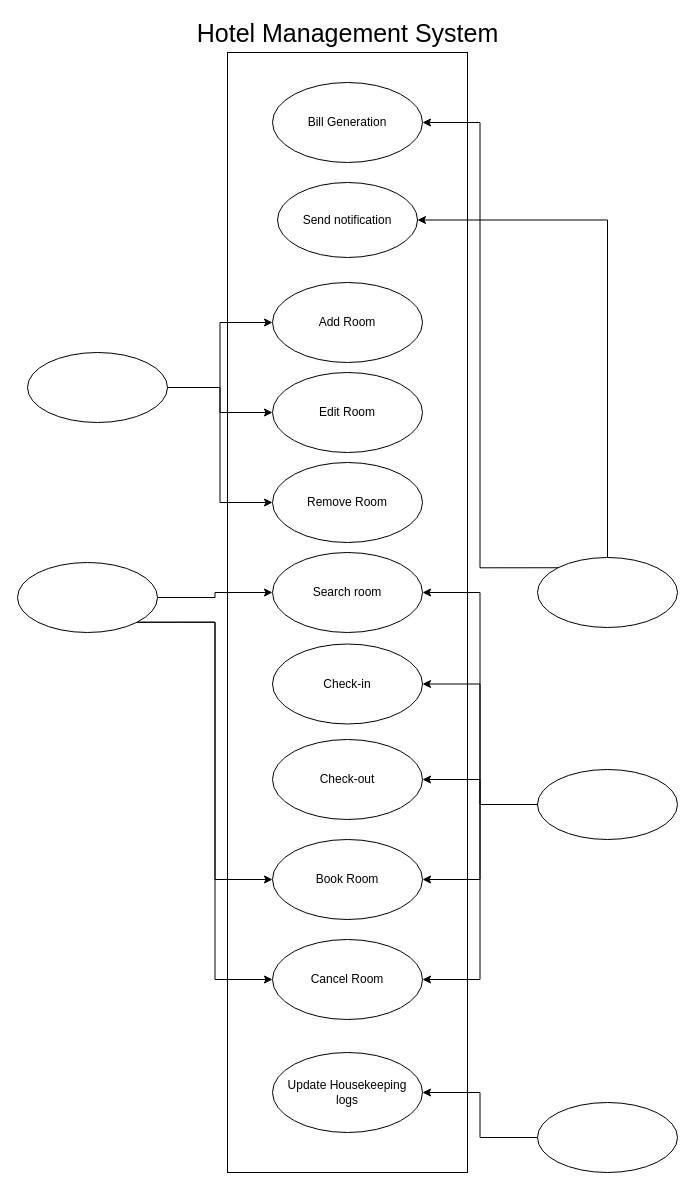
Image size: 695x1198. Some labels were removed from this diagram. The centre of each missing label's shape, as x and y in pixels:
"Admin" goes at (97,387).
"Customer" goes at (87,597).
"Housekeeper" goes at (607,1137).
"Receptionist" goes at (607,804).
"Server" goes at (607,592).
